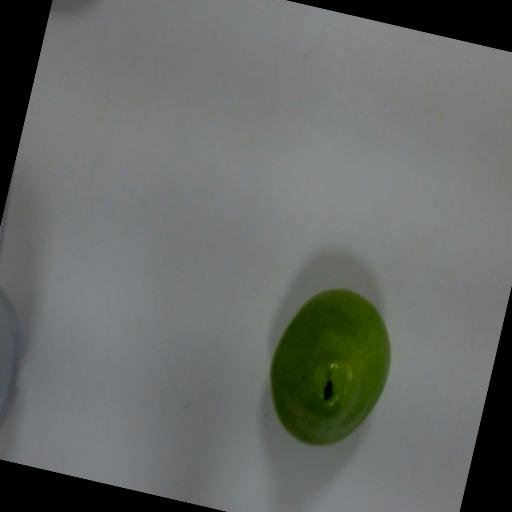Unripe: (246, 270, 410, 467)
